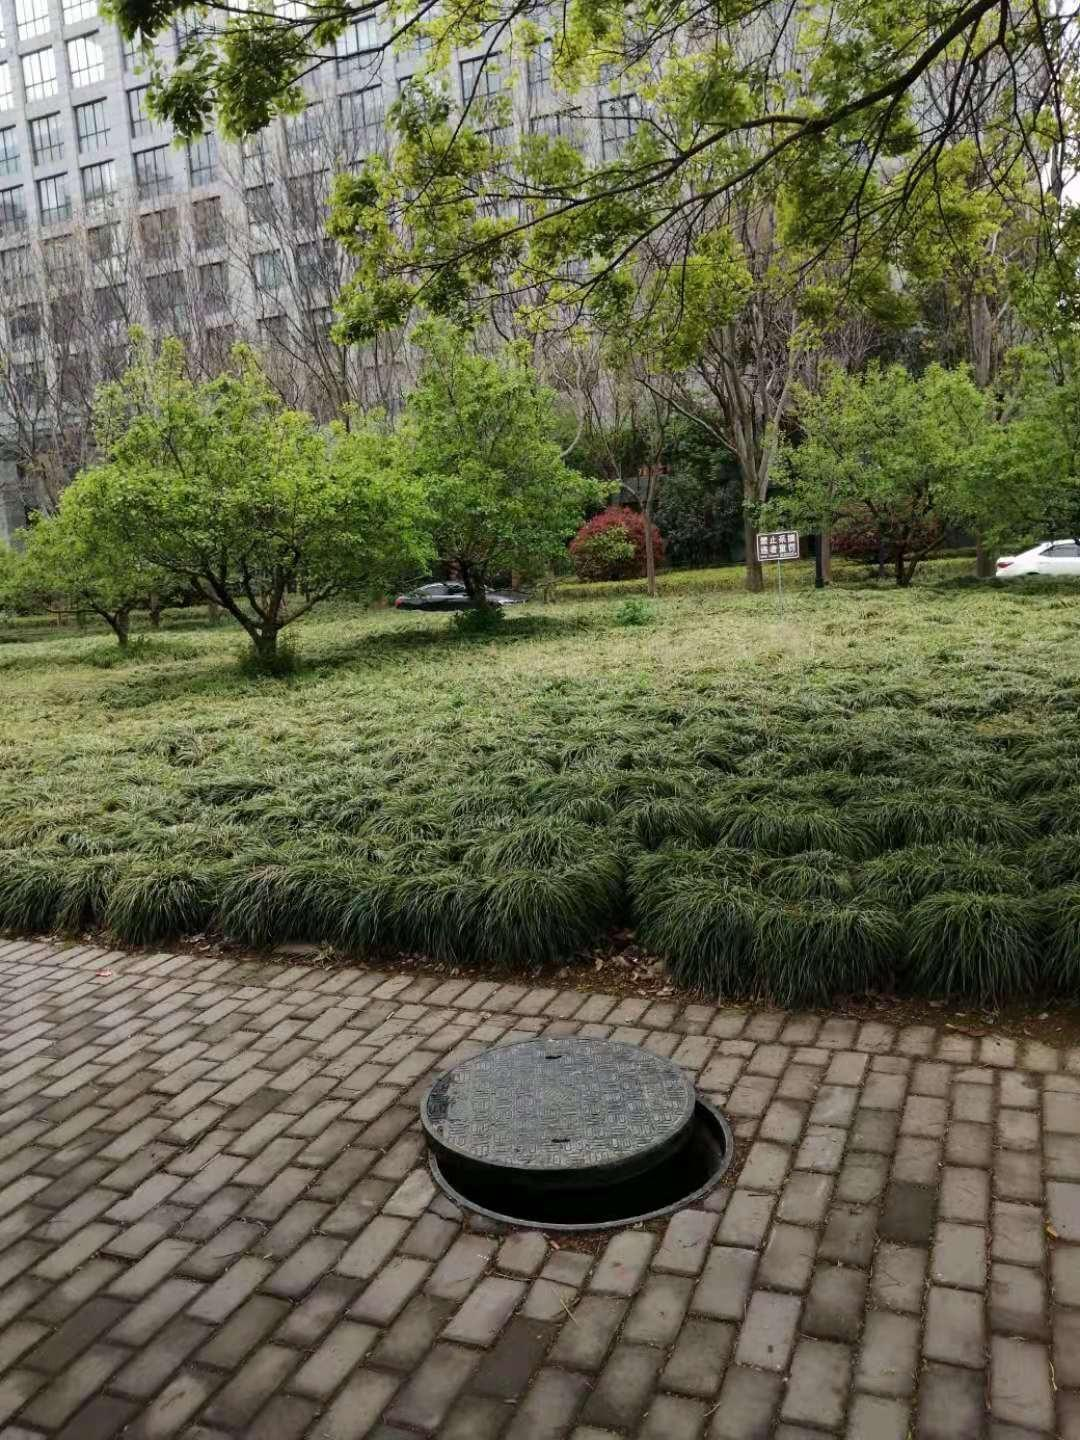wellcover: (406, 1020, 743, 1244)
